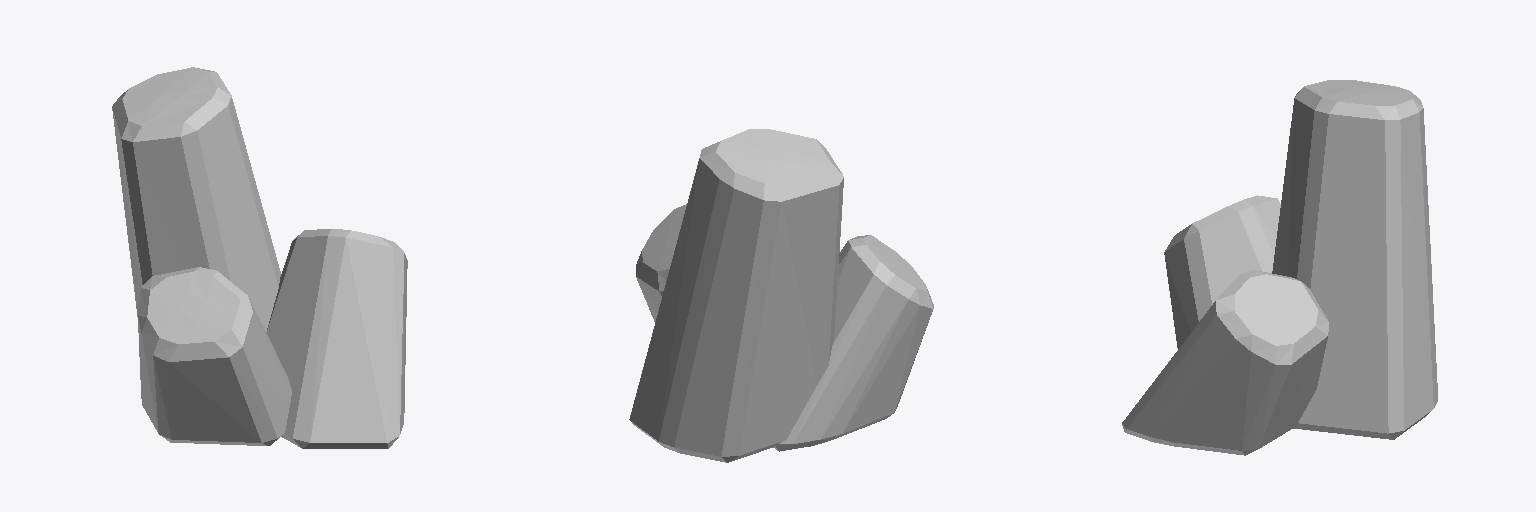
Rendered from Crystal_Small.obj.
3 views of the same model, side by side, from view 1: azimuth 30°, elevation 25°; view 2: azimuth 150°, elevation 25°; view 3: azimuth 270°, elevation 25° (orthographic).
Parts seen in each view (by area): view 1: Crystal_Small_Cube.515; view 2: Crystal_Small_Cube.515; view 3: Crystal_Small_Cube.515.
Part boxes in pixels (bbox=[...]): Crystal_Small_Cube.515: bbox=[112, 67, 407, 448]; Crystal_Small_Cube.515: bbox=[629, 129, 933, 462]; Crystal_Small_Cube.515: bbox=[1122, 80, 1437, 455].
Size of the model in its own units: 0.7645 by 0.8168 by 0.7817.